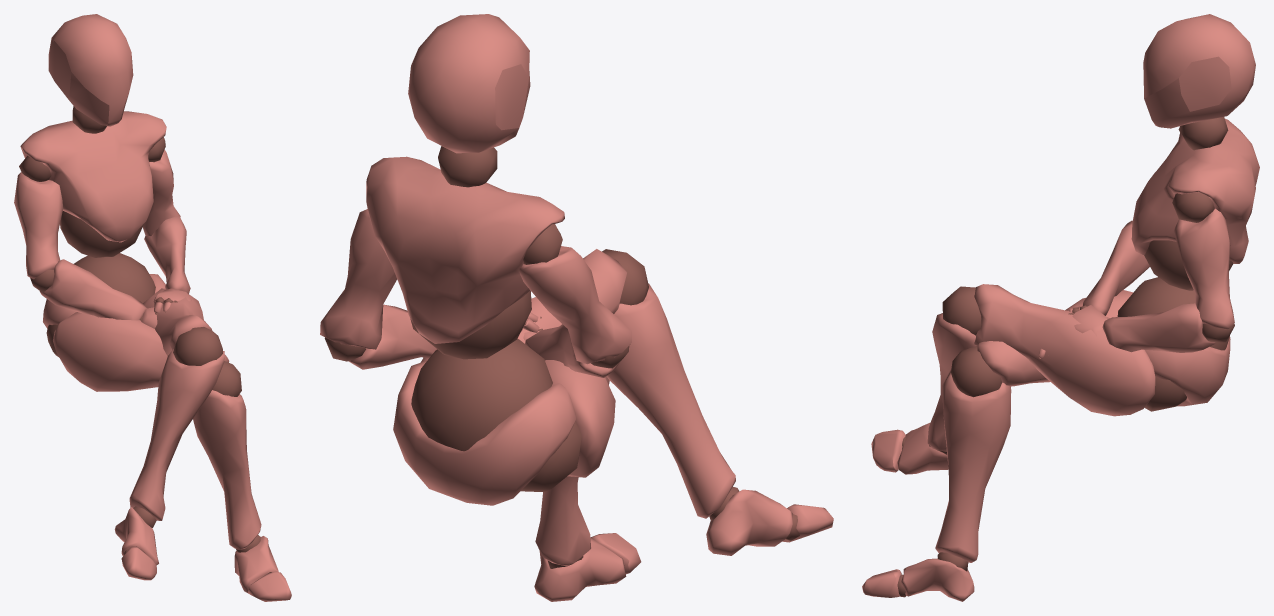
The model's file is reference_miaxmoXbotSitting.fbx.
3 renders of one model, left to right at view 1: azimuth 30°, elevation 25°; view 2: azimuth 150°, elevation 25°; view 3: azimuth 270°, elevation 25°, orthographic. The views are drawn at different scales.
Visible parts, largest first — view 1: reference_mixamoXbotSitting; view 2: reference_mixamoXbotSitting; view 3: reference_mixamoXbotSitting.
Part boxes in pixels (left/top/right/bottom): reference_mixamoXbotSitting: left=14, top=14, right=291, bottom=601; reference_mixamoXbotSitting: left=320, top=14, right=833, bottom=601; reference_mixamoXbotSitting: left=862, top=14, right=1259, bottom=601.
Size of the model in its own units: 58.58 by 136 by 88.99.
